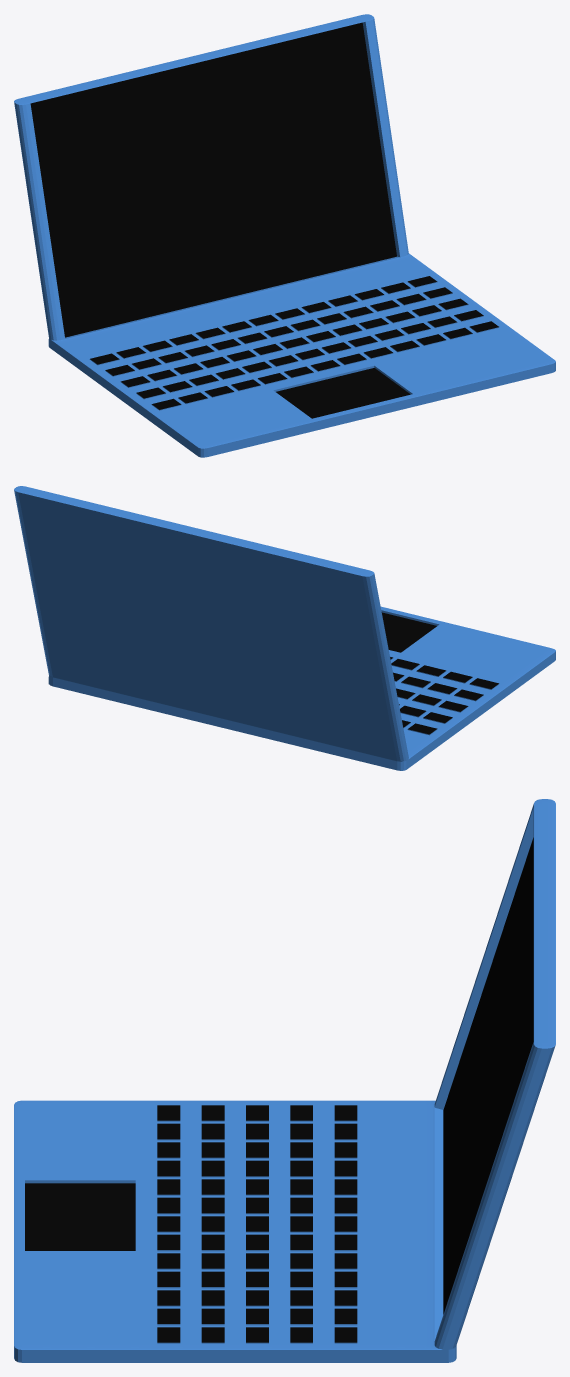
Rendered from laptop.glb.
3 renders of one model, top to bottom at view 1: azimuth 30°, elevation 25°; view 2: azimuth 150°, elevation 25°; view 3: azimuth 270°, elevation 25°, orthographic. The views are drawn at different scales.
Visible parts, largest first — view 1: laptop; view 2: laptop; view 3: laptop.
Boxes of the visible parts, x1,y1,x2,y2 form: laptop: [14, 14, 555, 457]; laptop: [14, 486, 555, 770]; laptop: [14, 799, 555, 1362].
Size of the model in its own units: 0.8 by 0.4709 by 0.7348.
